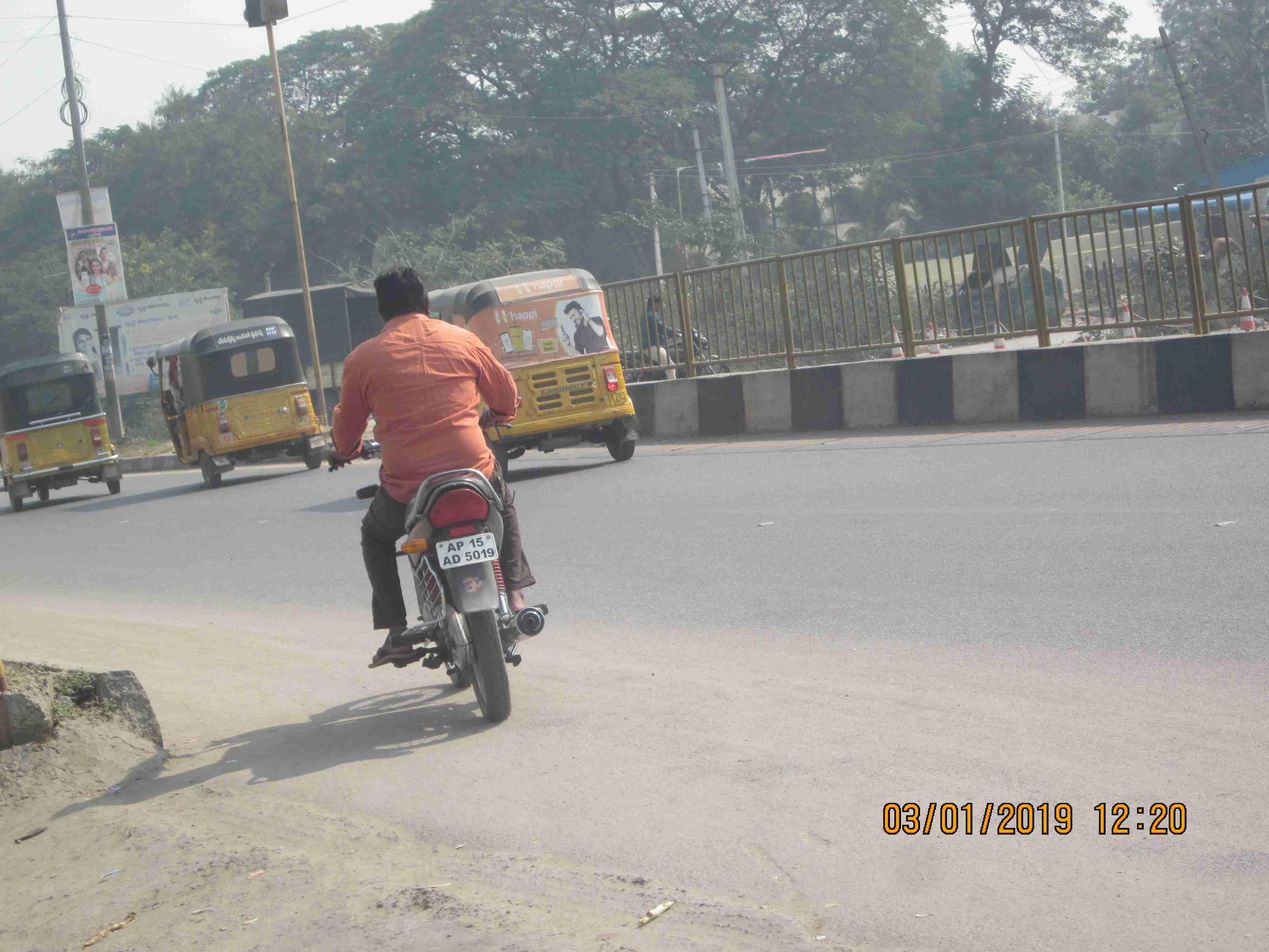plate: (429, 525, 511, 572)
